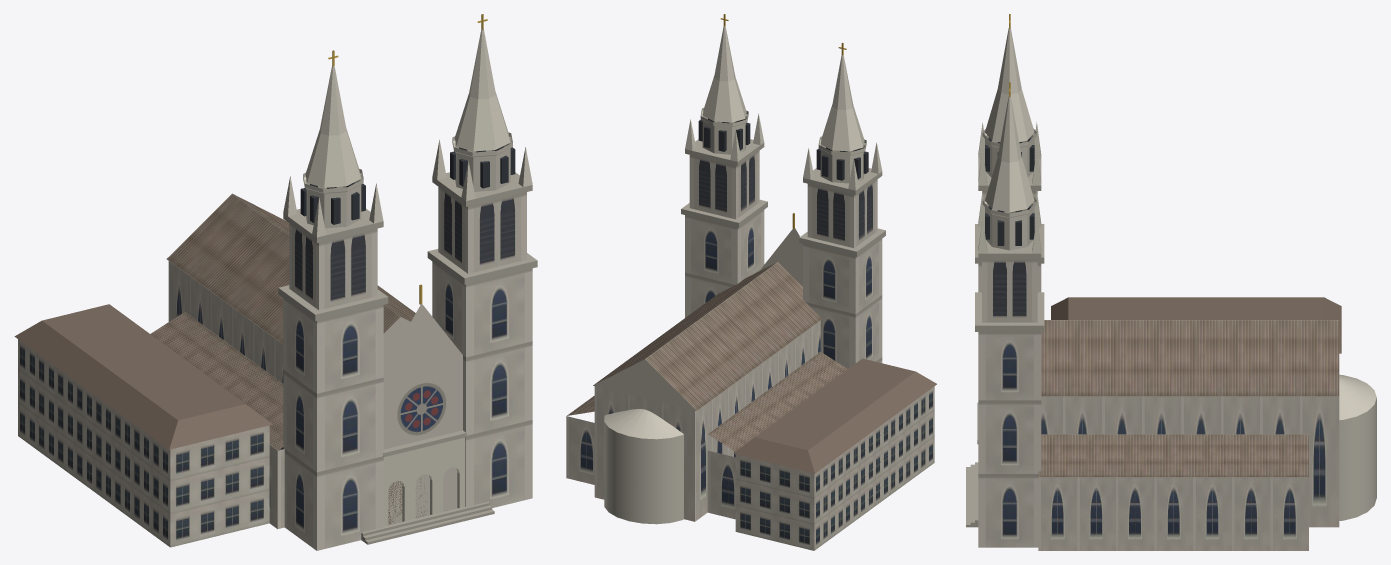
The model's file is sts_peter_and_paul.glb.
3 views of the same model, side by side, from view 1: azimuth 30°, elevation 25°; view 2: azimuth 150°, elevation 25°; view 3: azimuth 270°, elevation 25° (orthographic). The views are drawn at different scales.
Parts seen in each view (by area): view 1: sts_peter_and_paul; view 2: sts_peter_and_paul; view 3: sts_peter_and_paul.
Part boxes in pixels (x1,y1,x2,y2): sts_peter_and_paul: (14, 14, 537, 550); sts_peter_and_paul: (566, 14, 936, 550); sts_peter_and_paul: (966, 14, 1376, 550).
Bounding box in the file's own units: 42 × 58 × 48.
Materials: 2 (2 with a texture image).
